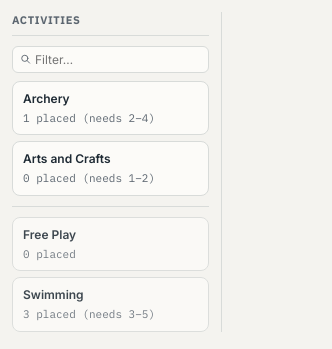
Test case: ActivityPalette — Ledger + Filter › shows a quiet no-matches state when the filter yields nothing
Type "zzzznomatch" into the field labelled "Filter…" at (110, 59), box [12,46,209,72]
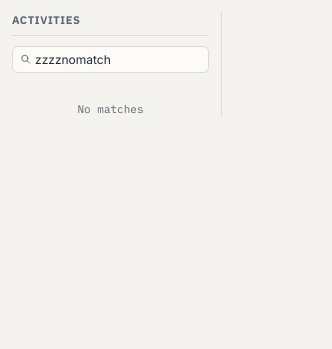
Expected: the text "No matches" is shown, [78,102,144,116]
Expected: the element with test id "palette-zone-placed" is gone
